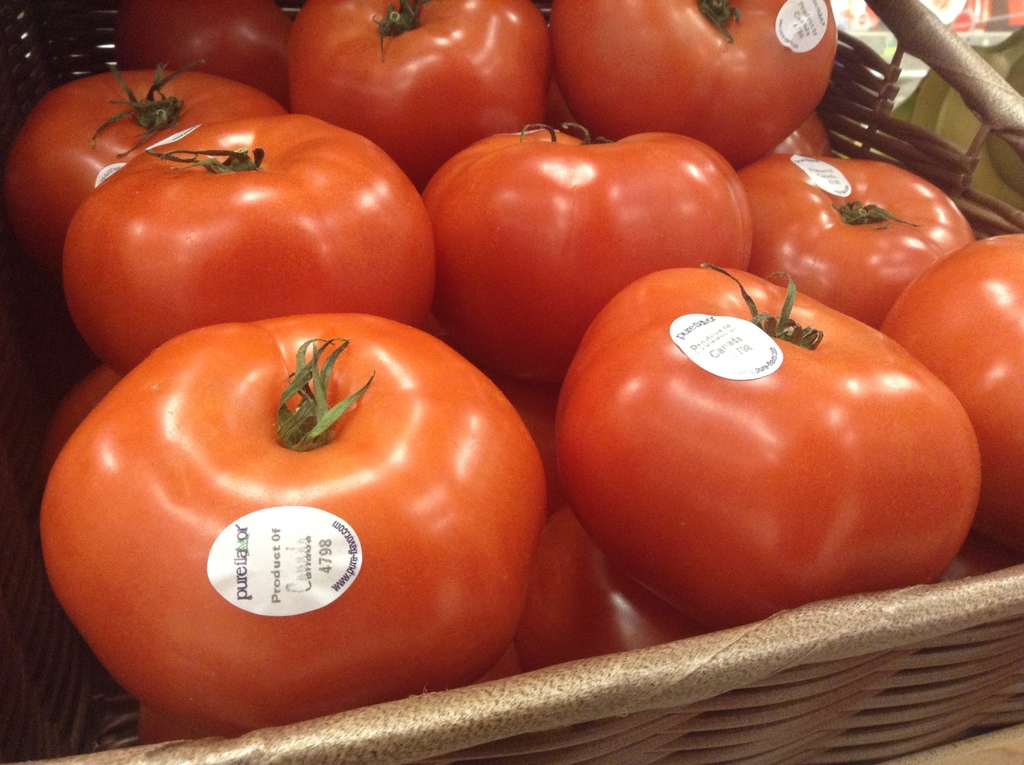Tomato: (0, 0, 1023, 746)
